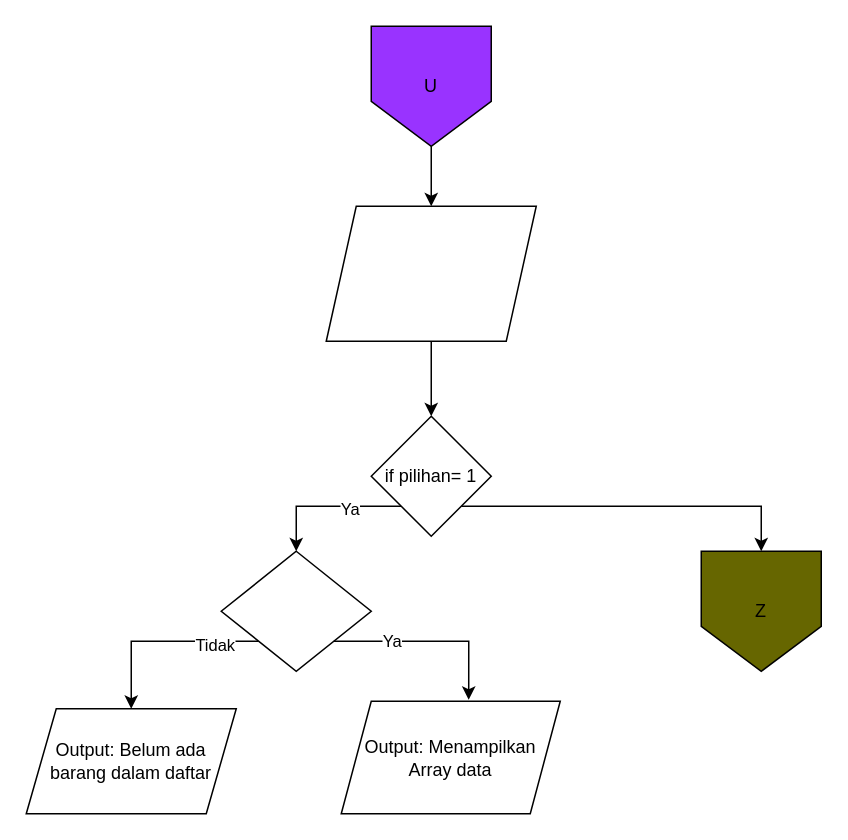
This 848x840 diagram has some shape labels left out. Here are the shapes that lost their labels. From the top down, the box of each, then its label:
(325, 205, 536, 341): Output: 1. Tampilkan Barang 2. Sorting Barang 3. Logout
(220, 550, 371, 671): if barang ada
